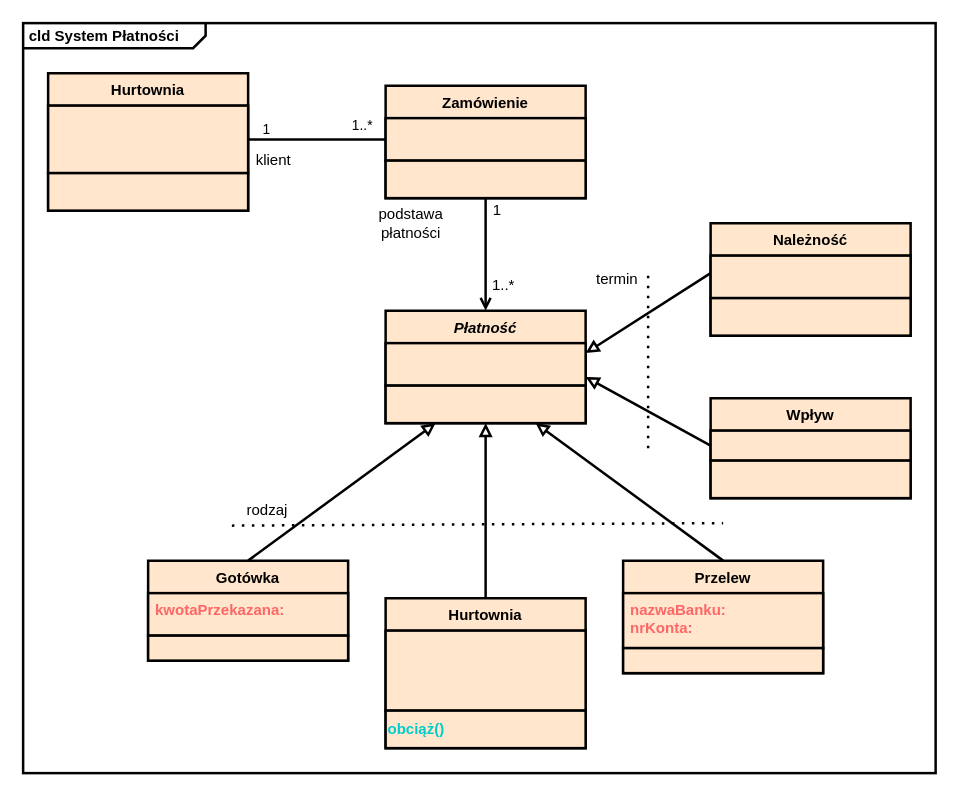
This 958x795 diagram has some shape labels left out. The centre of each missing label's shape, as x and y in pixels:
"dataZłożenia:" goes at [485,138].
"nazwa: adres:" goes at [147,139].
"suma:" goes at [485,363].
"terminPłatności:" goes at [810,276].
"typ: = kredytowa numer: dataWażności:" goes at [485,670].
"zaksięguj()" goes at [810,479].
